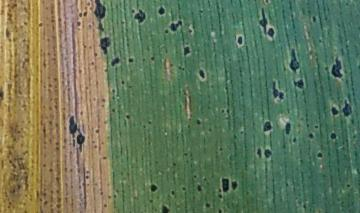tarspot: (89, 1, 109, 31), (255, 5, 271, 37), (285, 48, 303, 74), (65, 115, 80, 146), (329, 55, 344, 82), (99, 35, 115, 57), (75, 132, 90, 153), (269, 77, 282, 100), (340, 97, 354, 118), (193, 69, 212, 84), (166, 19, 183, 34), (292, 76, 307, 92), (179, 44, 196, 58), (221, 173, 231, 196), (134, 10, 148, 26), (145, 181, 161, 195), (264, 26, 279, 40), (263, 119, 274, 137), (234, 32, 245, 50), (158, 200, 173, 213), (328, 103, 341, 118), (107, 56, 121, 69), (284, 119, 293, 137), (155, 4, 169, 15), (230, 177, 240, 192), (263, 148, 274, 161), (253, 147, 264, 160), (343, 181, 354, 193), (308, 14, 321, 24), (278, 89, 288, 101), (195, 183, 206, 193), (315, 150, 325, 161), (329, 131, 338, 141), (215, 193, 226, 200), (307, 132, 315, 141), (75, 19, 83, 28), (124, 112, 132, 120), (148, 55, 156, 63), (77, 11, 85, 19), (170, 187, 177, 196), (204, 201, 213, 208), (82, 174, 92, 180), (128, 56, 135, 64), (195, 119, 203, 126), (120, 79, 127, 87), (130, 8, 139, 13), (215, 208, 224, 213), (82, 11, 89, 17)
